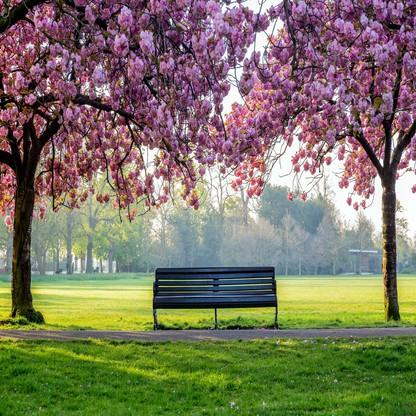obstacle: (139, 263, 287, 335)
